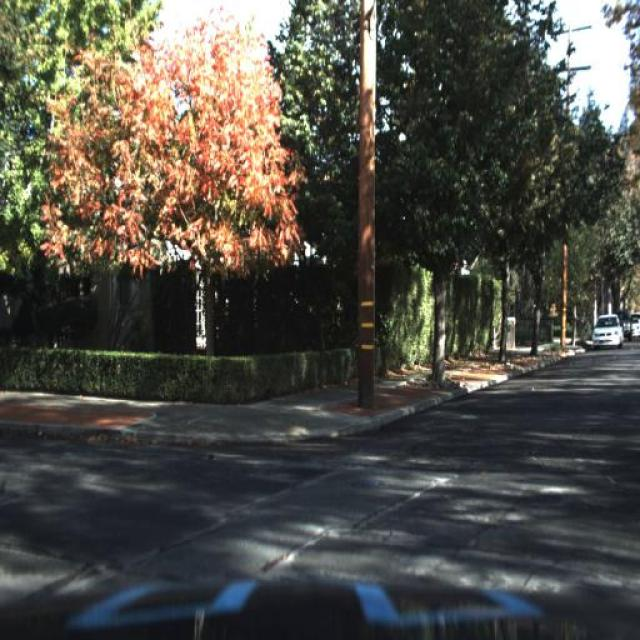car: (592, 314, 624, 350), (608, 310, 632, 341), (622, 318, 639, 338)
